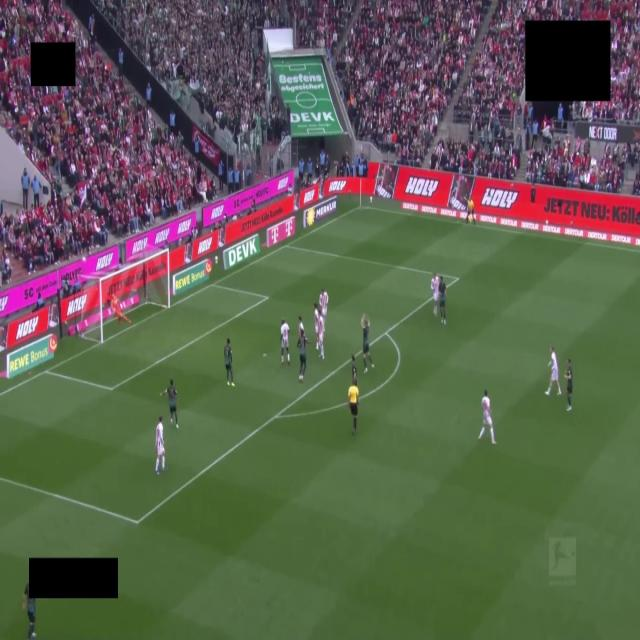player: (479, 391, 496, 445), (161, 379, 178, 428), (361, 314, 374, 373), (546, 347, 561, 395), (23, 583, 35, 639), (111, 295, 130, 324), (224, 338, 234, 386), (156, 416, 164, 474), (565, 358, 573, 412), (298, 329, 306, 382), (281, 320, 290, 365), (438, 276, 446, 325), (431, 273, 439, 315), (319, 288, 328, 324), (318, 315, 324, 359), (314, 304, 319, 350), (352, 355, 357, 385), (298, 316, 304, 337)
referee: (348, 384, 358, 435)
